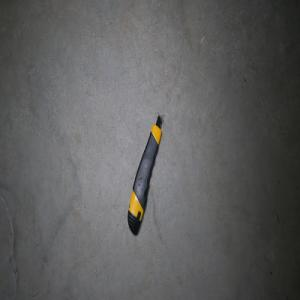Cutter: (126, 112, 163, 235)
